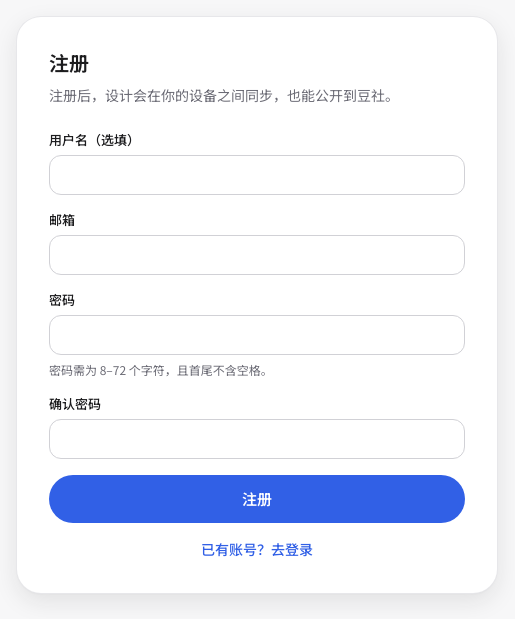
register 页 › 注册成功显示已发送验证邮件
Type "  豆豆  " into the field labelled "用户名（选填）" at x=257, y=175, box [49,155,465,195]
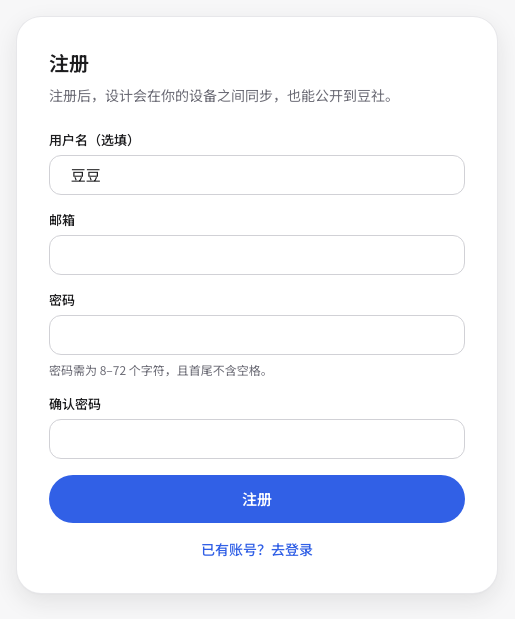
Type "a@b.com" into the field labelled "邮箱" at x=257, y=255, box [49,235,465,275]
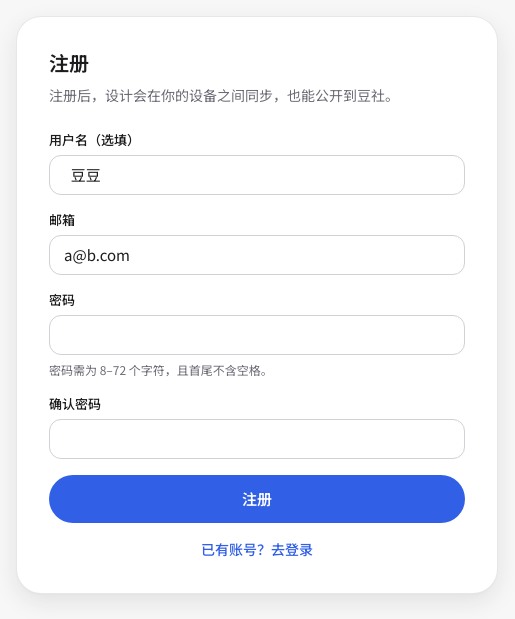
Type "12345678" into the password field labelled "密码" at x=257, y=335, box [49,315,465,355]
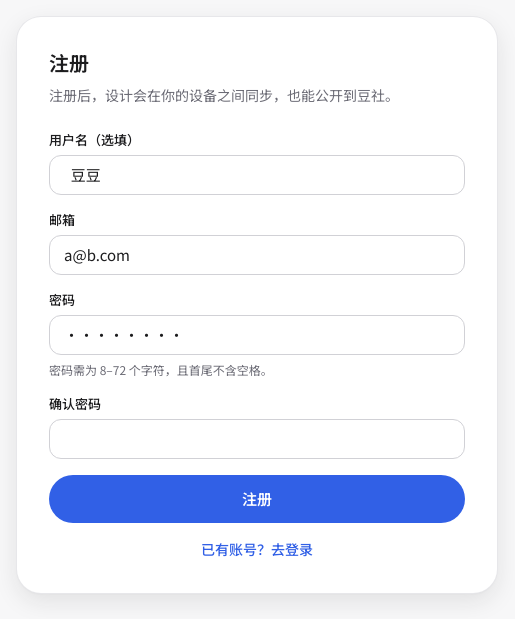
Type "12345678" into the password field labelled "确认密码" at x=257, y=439, box [49,419,465,459]
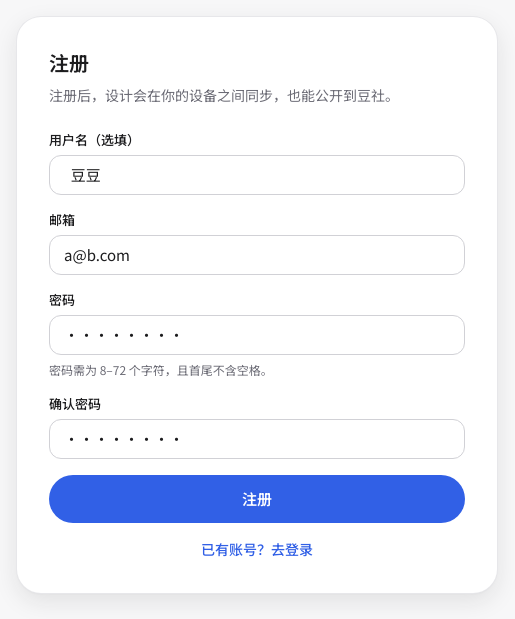
Click the button "注册" at x=257, y=499, box [49,475,465,523]
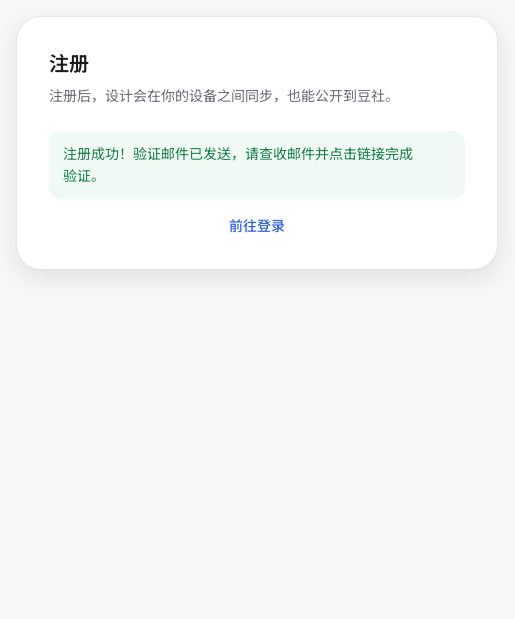
expect the message reads "注册成功！验证邮件已发送，请查收邮件并点击链接完成验证。": met, box [63,145,413,184]
